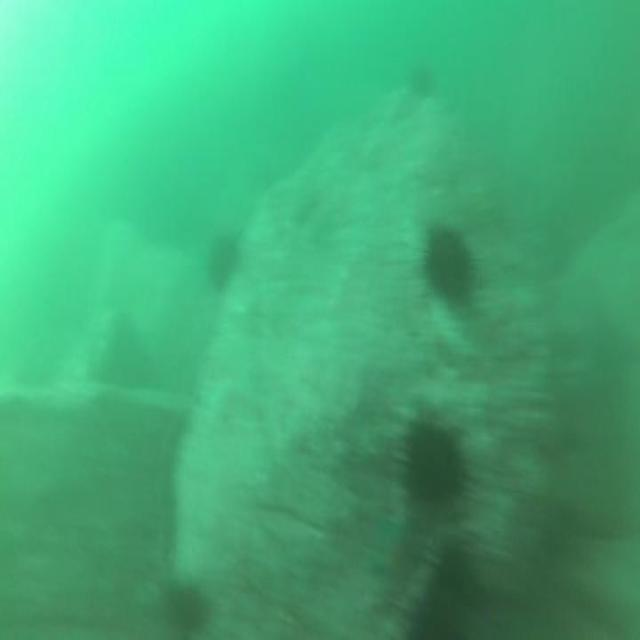echinus: (398, 408, 466, 520), (422, 218, 478, 307), (393, 580, 472, 640), (423, 539, 478, 608), (161, 569, 211, 640), (206, 226, 246, 297), (406, 58, 435, 106)
